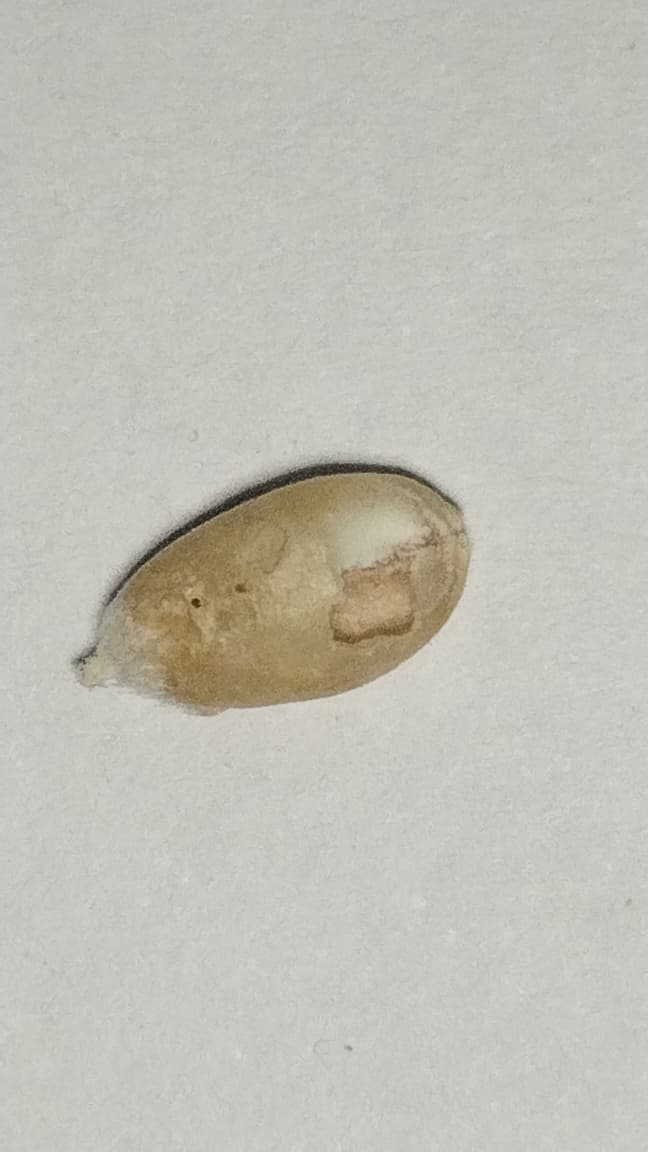damage: (81, 470, 468, 708)
insectdamage: (323, 464, 469, 646)
